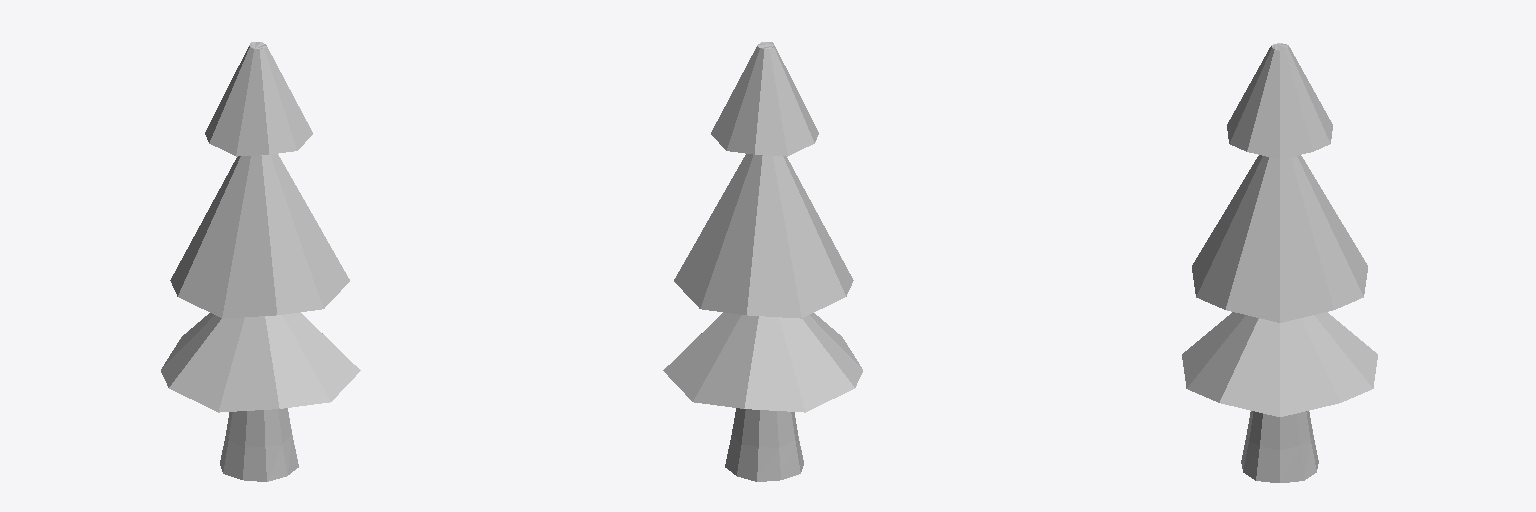
The model's file is tree6.obj.
3 renders of one model, left to right at view 1: azimuth 30°, elevation 25°; view 2: azimuth 150°, elevation 25°; view 3: azimuth 270°, elevation 25°, orthographic.
Parts seen in each view (by area): view 1: Icosphere; view 2: Icosphere; view 3: Icosphere.
Part boxes in pixels (x1,y1,x2,y2): Icosphere: (161, 42, 360, 481); Icosphere: (663, 42, 862, 481); Icosphere: (1182, 43, 1377, 482).
Size of the model in its own units: 0.8633 by 1.99 by 0.8416.